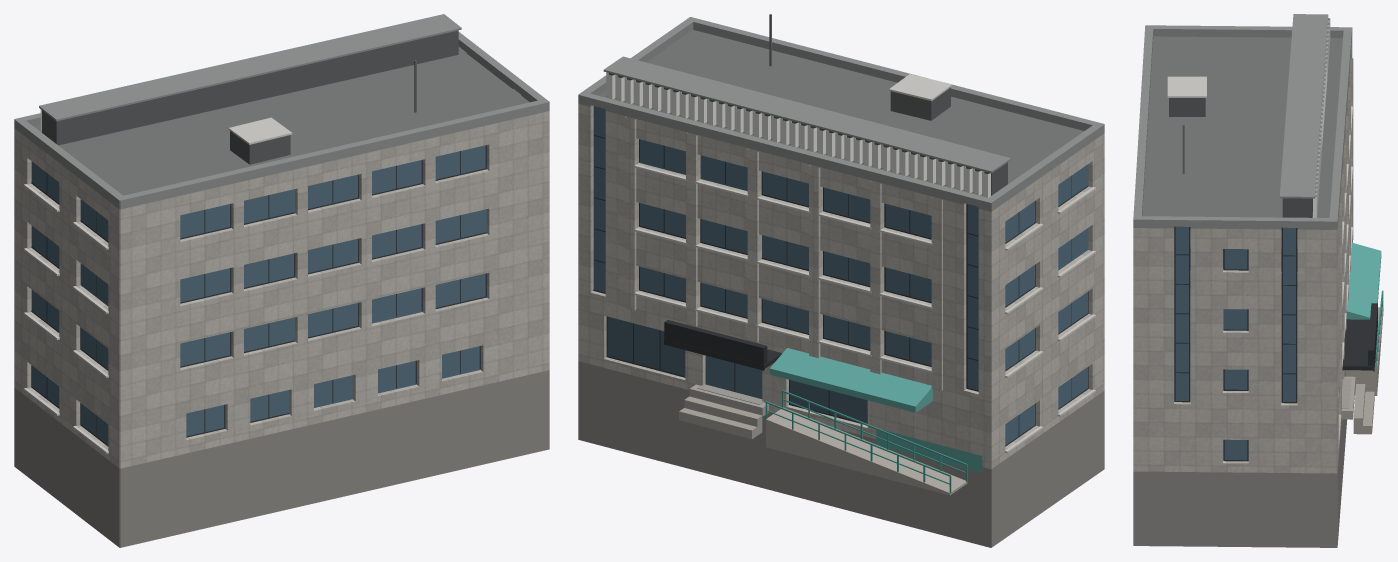
The picture shows the model from 3 angles, left to right: view 1: azimuth 30°, elevation 25°; view 2: azimuth 150°, elevation 25°; view 3: azimuth 270°, elevation 25°; orthographic projection. The views are drawn at different scales.
Visible parts, largest first — view 1: b03__stone-panel-wall, b03__plinth-stone-wall, b03__glass, b03__roof, b03__roof-edge, b03__louver-back, b03__frame, b03__trim; view 2: b03__stone-panel-wall, b03__plinth-stone-wall, b03__glass, b03__roof-edge, b03__roof, b03__louver-white, b03__teal-glass, b03__ramp-stone, b03__trim, b03__shop-glass, b03__frame, b03__canopy-steel (+5 smaller); view 3: b03__stone-panel-wall, b03__roof, b03__plinth-stone-wall, b03__roof-edge, b03__glass, b03__teal-glass, b03__frame, b03__canopy-steel, b03__trim, b03__louver-back, b03__stone-step, b03__louver-white (+3 smaller).
Part boxes in pixels (<box>): b03__stone-panel-wall: <box>14,111,549,468</box>; b03__plinth-stone-wall: <box>14,370,549,547</box>; b03__glass: <box>31,145,486,445</box>; b03__roof: <box>33,47,529,195</box>; b03__roof-edge: <box>14,14,549,209</box>; b03__louver-back: <box>42,30,458,164</box>; b03__frame: <box>31,145,486,446</box>; b03__trim: <box>24,117,292,453</box>; b03__stone-panel-wall: <box>578,103,1104,469</box>; b03__plinth-stone-wall: <box>578,361,1104,547</box>; b03__glass: <box>593,106,1088,445</box>; b03__roof-edge: <box>578,17,1104,211</box>; b03__roof: <box>598,30,1084,196</box>; b03__louver-white: <box>606,72,990,197</box>; b03__teal-glass: <box>769,348,982,472</box>; b03__ramp-stone: <box>766,407,967,495</box>; b03__trim: <box>633,74,1095,453</box>; b03__shop-glass: <box>607,316,867,423</box>; b03__frame: <box>593,135,1088,446</box>; b03__canopy-steel: <box>664,320,782,370</box>; b03__stone-panel-wall: <box>1133,36,1353,473</box>; b03__roof: <box>1142,36,1342,230</box>; b03__plinth-stone-wall: <box>1133,281,1347,547</box>; b03__roof-edge: <box>1133,14,1352,229</box>; b03__glass: <box>1175,226,1297,460</box>; b03__teal-glass: <box>1346,242,1381,319</box>; b03__frame: <box>1174,226,1297,461</box>; b03__canopy-steel: <box>1342,303,1377,371</box>; b03__trim: <box>1167,76,1352,368</box>; b03__louver-back: <box>1169,98,1312,217</box>; b03__stone-step: <box>1353,384,1374,434</box>; b03__louver-white: <box>1313,18,1330,217</box>.
Bounding box in the file's own units: 25.29 × 22.2 × 13.56.
21 materials, 1 textured.
